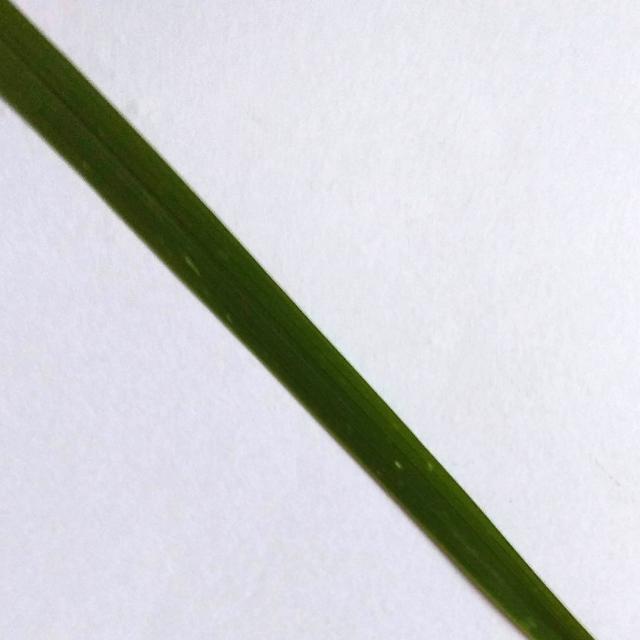Rice_Healthy: (0, 0, 593, 640)
